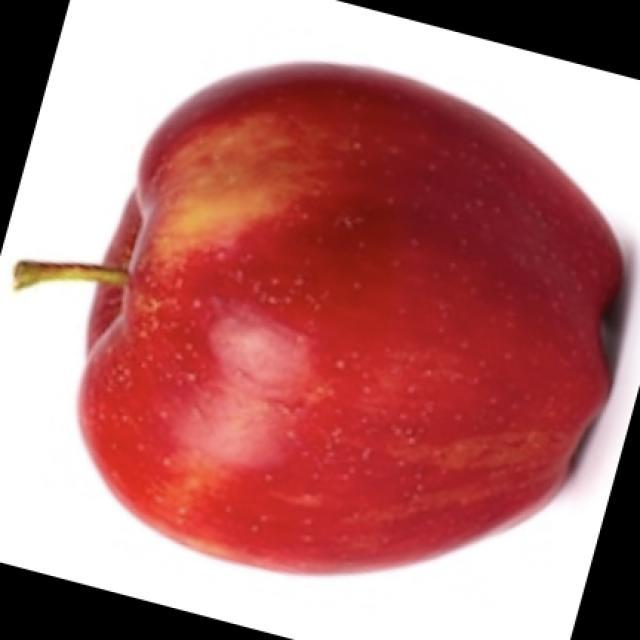Fresh Apple: (65, 67, 600, 553)
